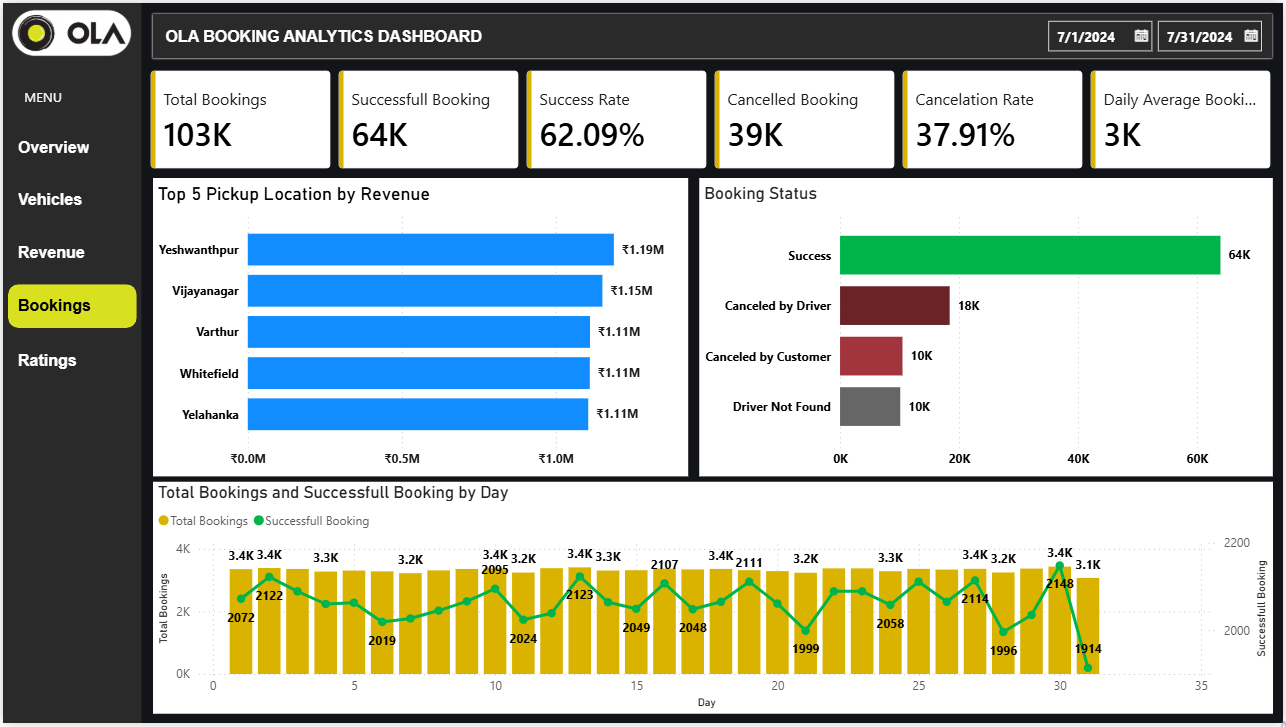

What the dashboard file says about the page in this screenshot:
{"tool":"powerbi","page":{"name":"Bookings","canvas":[1280,720],"ordinal":3},"visuals":[{"type":"shape","box":[0,0,138.8,720],"z":0},{"type":"image","box":[8.8,2.5,120,55],"z":1000},{"type":"textbox","box":[16.2,80,53.8,28.8],"z":2000},{"type":"actionButton","box":[5,122.5,128.8,43.8],"z":3000},{"type":"actionButton","box":[5,175,128.8,43.8],"z":4000},{"type":"actionButton","box":[5,227.5,128.8,43.8],"z":5000},{"type":"actionButton","box":[5,281.2,128.8,43.8],"z":6000},{"type":"actionButton","box":[5,336.2,128.8,43.8],"z":7000},{"type":"shape","box":[147.5,8.8,1123.8,48.8],"z":7001},{"type":"textbox","box":[157.5,16.2,355,35],"z":7002},{"type":"slicer","fields":{"Values":["OLA_Booking_Dataset.Date"]},"box":[1032.6,7.4,239,45.6],"z":7003},{"type":"cardVisual","fields":{"Data":["OLA_Booking_Dataset.Total Bookings","OLA_Booking_Dataset.Successfull Booking","OLA_Booking_Dataset.Successfull Booking %","OLA_Booking_Dataset.Cancelled Booking","OLA_Booking_Dataset.Cancelled Booking %","OLA_Booking_Dataset.Daily Average Booking"]},"box":[147.9,67.8,1123.8,98.6],"z":7004},{"type":"clusteredBarChart","title":"Top 5 Pickup Location by Revenue","fields":{"Category":["OLA_Booking_Dataset.Pickup_Location"],"Y":["Sum(OLA_Booking_Dataset.Booking_Value)"]},"box":[149.9,174.9,535.1,298.4],"z":7005},{"type":"clusteredBarChart","title":"Booking Status","fields":{"Category":["OLA_Booking_Dataset.Booking_Status"],"Y":["OLA_Booking_Dataset.Total Bookings"]},"box":[696.7,174.9,573.3,298.4],"z":7006},{"type":"lineStackedColumnComboChart","fields":{"Category":["OLA_Booking_Dataset.Date.Variation.Date Hierarchy.Day"],"Y":["OLA_Booking_Dataset.Total Bookings"],"Y2":["OLA_Booking_Dataset.Successfull Booking"]},"box":[149.9,479.2,1120.1,232.2],"z":7007}]}

Visuals, with their boxes in screenshot pixels (x1, y1, x2, y2), scaled from the page's 1280x720 canvas onto the 1286x727 screenshot:
shape: crop(0, 0, 139, 726)
image: crop(9, 3, 129, 58)
textbox: crop(16, 81, 70, 110)
actionButton: crop(5, 124, 134, 168)
actionButton: crop(5, 177, 134, 221)
actionButton: crop(5, 230, 134, 274)
actionButton: crop(5, 284, 134, 328)
actionButton: crop(5, 339, 134, 384)
shape: crop(148, 9, 1277, 58)
textbox: crop(158, 16, 515, 52)
slicer - OLA_Booking_Dataset.Date: crop(1037, 7, 1278, 54)
cardVisual - OLA_Booking_Dataset.Total Bookings x OLA_Booking_Dataset.Successfull Booking: crop(149, 68, 1278, 168)
"Top 5 Pickup Location by Revenue" clusteredBarChart: crop(151, 177, 688, 478)
"Booking Status" clusteredBarChart: crop(700, 177, 1276, 478)
lineStackedColumnComboChart - OLA_Booking_Dataset.Date.Variation.Date Hierarchy.Day x OLA_Booking_Dataset.Total Bookings: crop(151, 484, 1276, 718)
